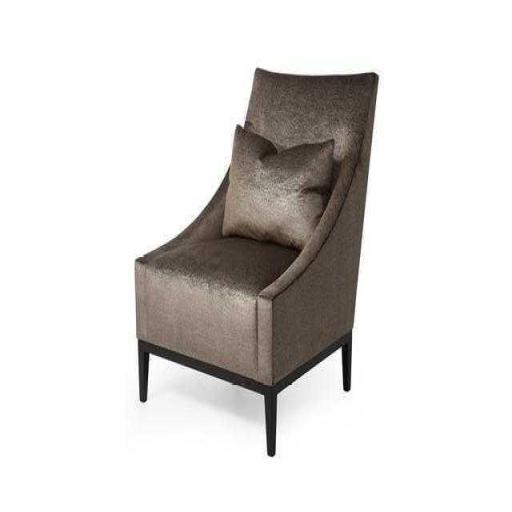chair: (130, 58, 382, 465)
